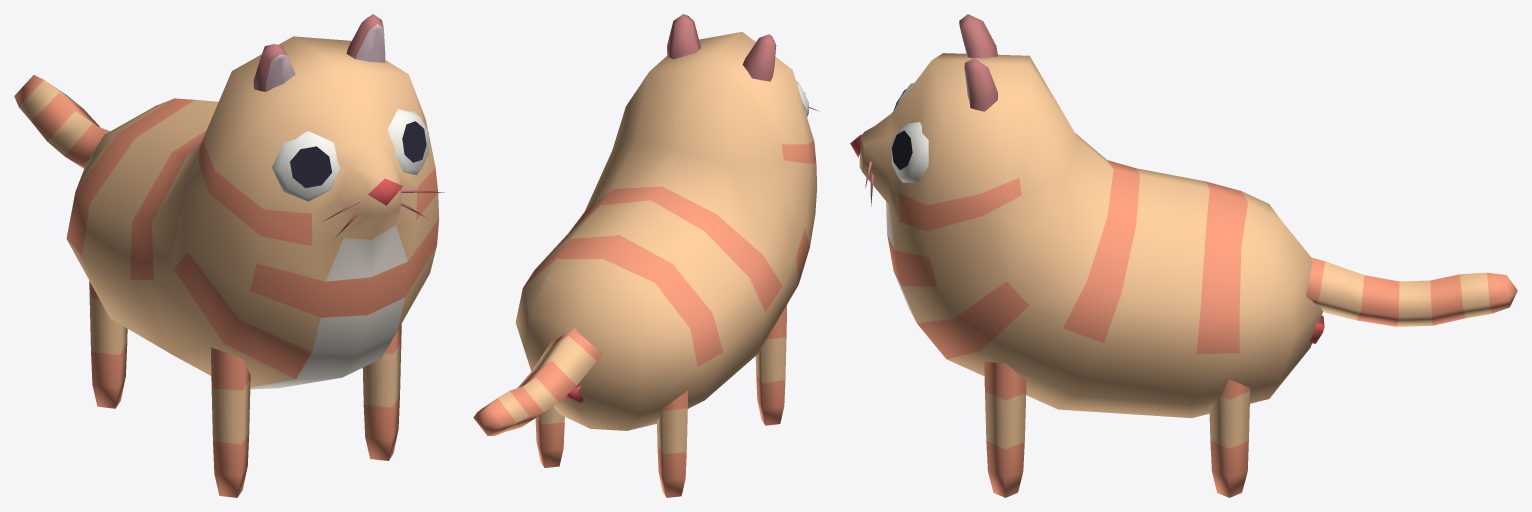
File: Cat_LOD3.obj
3 views of the same model, side by side, from view 1: azimuth 30°, elevation 25°; view 2: azimuth 150°, elevation 25°; view 3: azimuth 270°, elevation 25° (orthographic). The views are drawn at different scales.
Parts seen in each view (by area): view 1: Cat_Cat.001; view 2: Cat_Cat.001; view 3: Cat_Cat.001.
Part boxes in pixels (x1,y1,x2,y2): Cat_Cat.001: [14, 14, 444, 497]; Cat_Cat.001: [473, 14, 818, 497]; Cat_Cat.001: [850, 14, 1517, 497].
Size of the model in its own units: 1.16 by 2.09 by 2.99.
